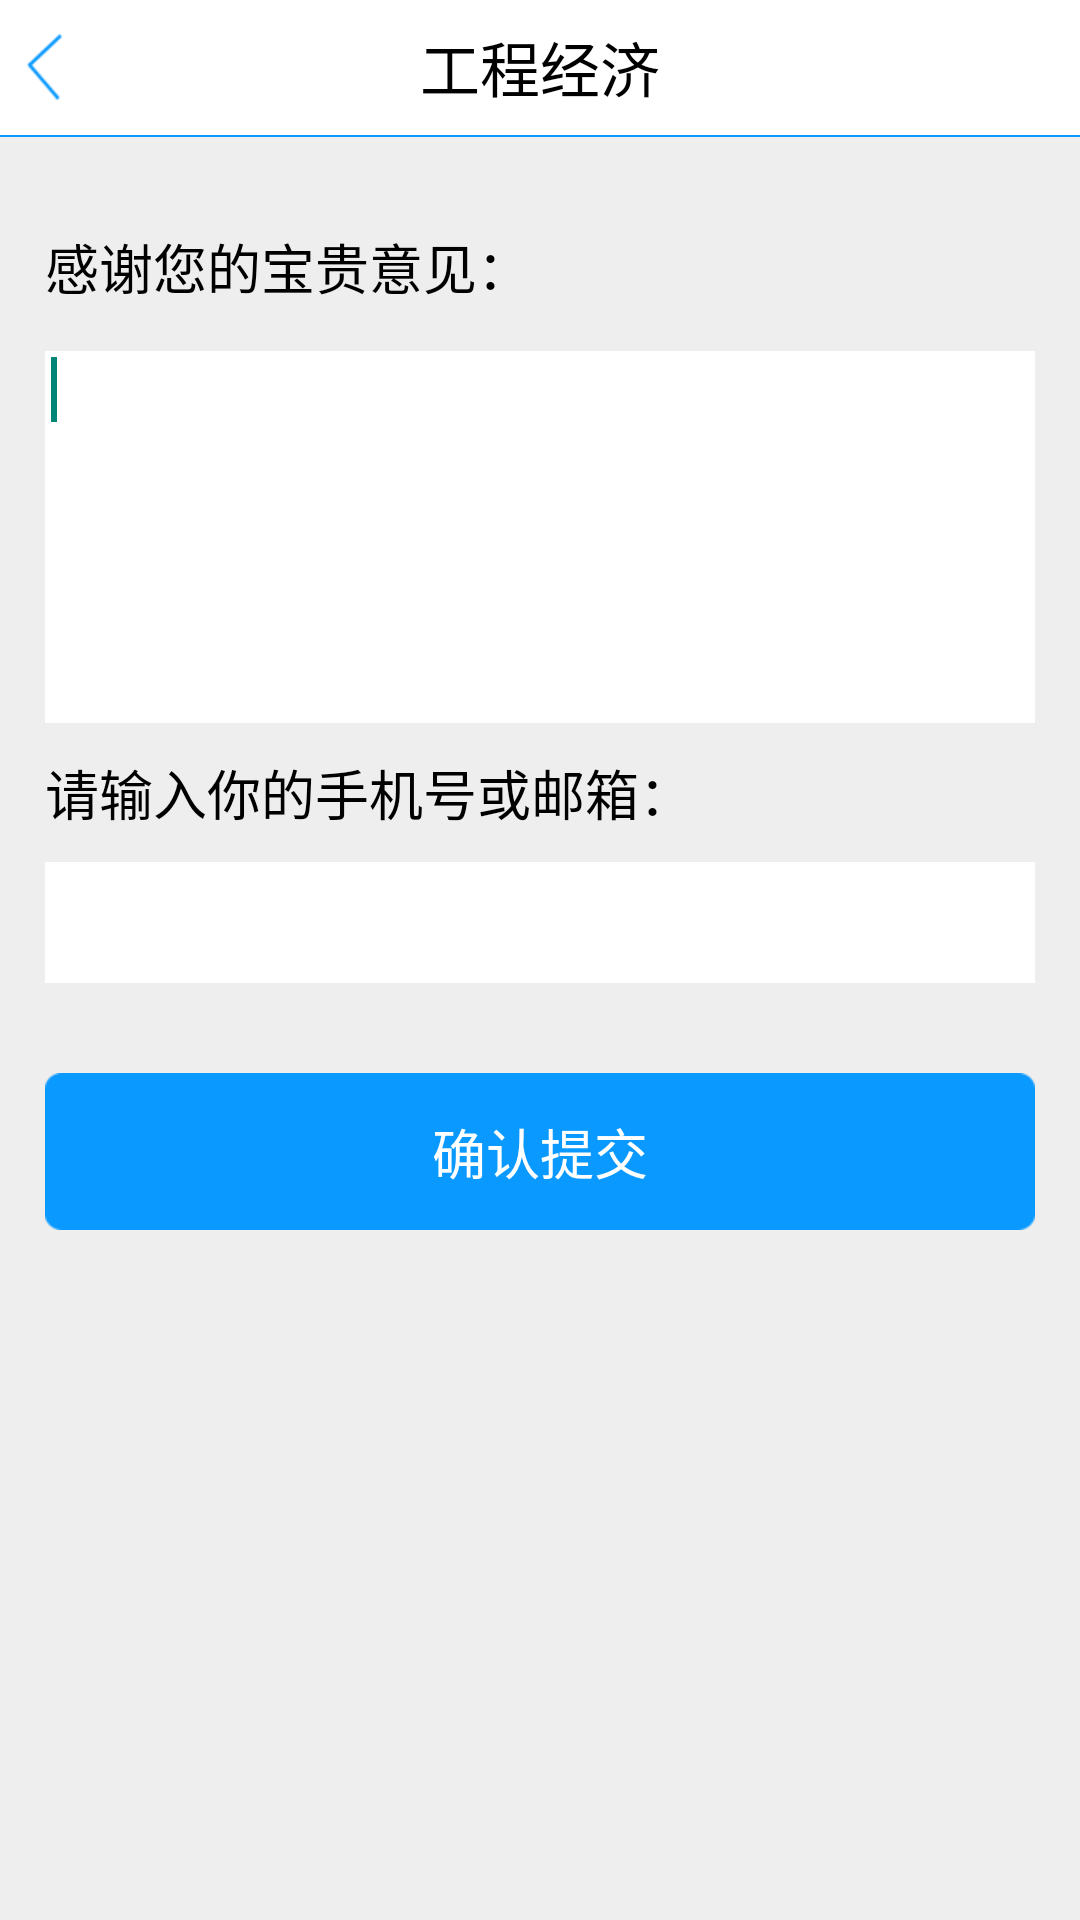

Where icons sit on this 1080*1920 app screen, as (x1, y1, x2, y2):
back: (27, 34, 62, 100)
